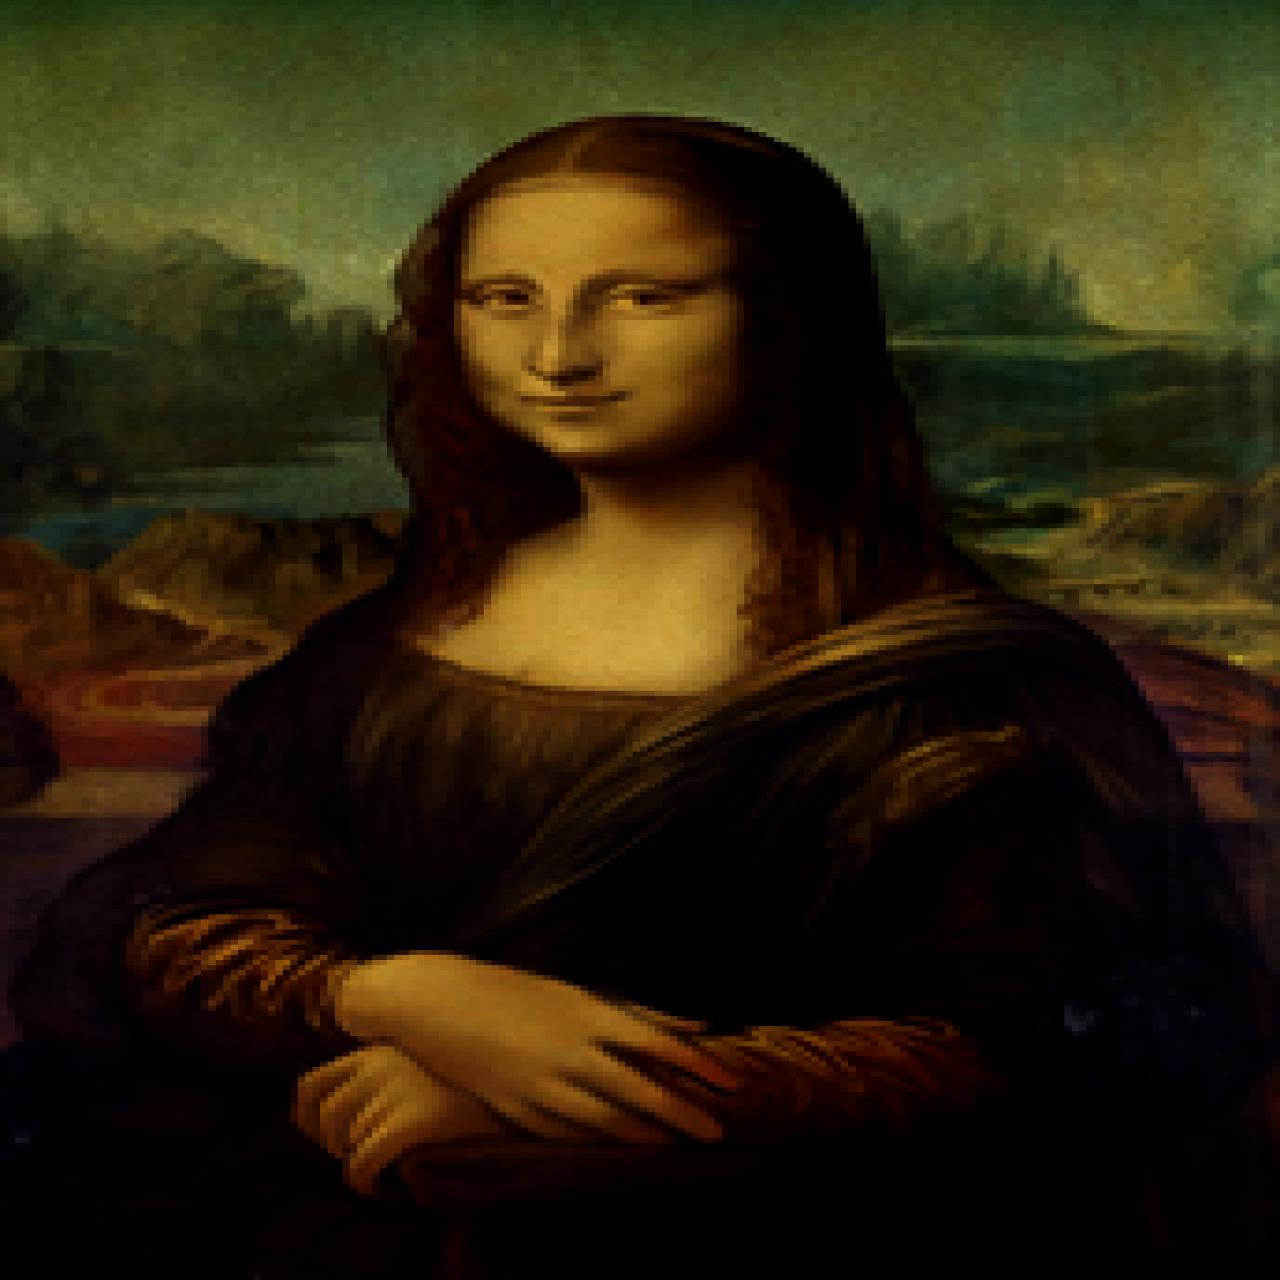MonaLisa: (1, 1, 1274, 1276)
